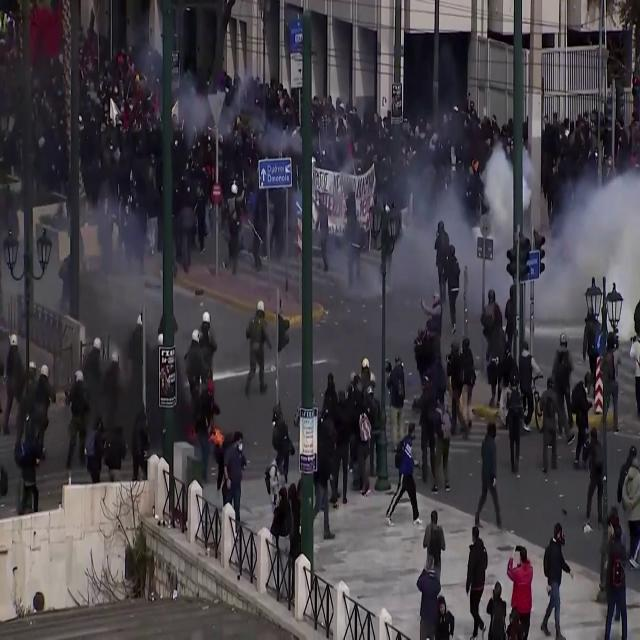Smoke: (377, 114, 640, 344), (64, 176, 168, 346)
